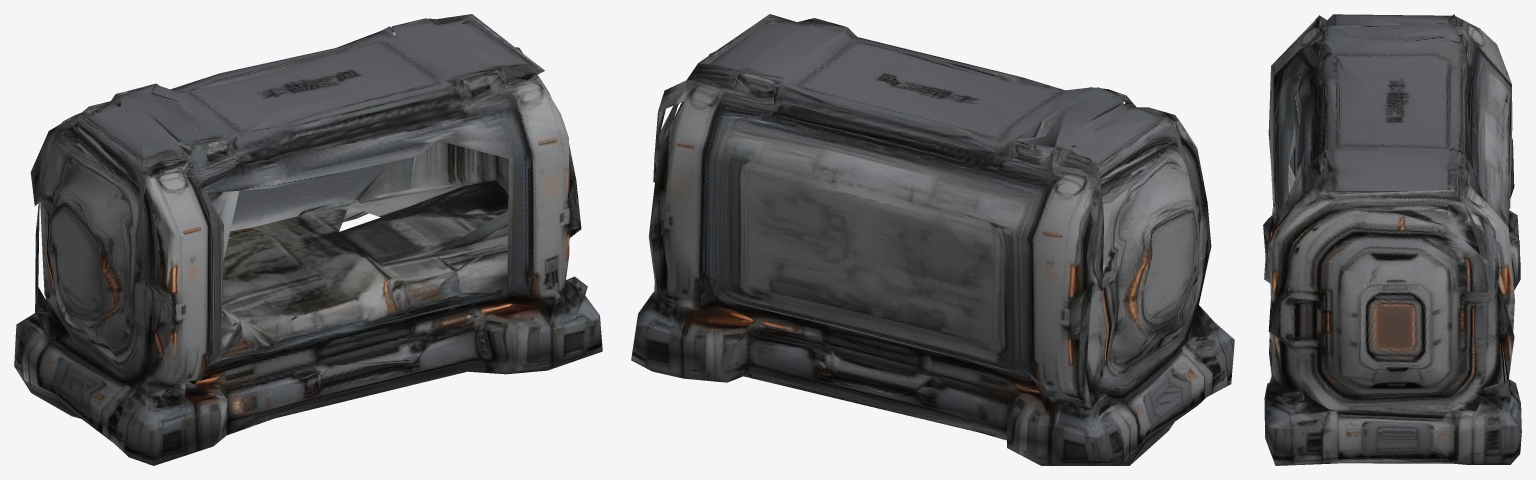
The model's file is midground_medical_pod.glb.
3 renders of one model, left to right at view 1: azimuth 30°, elevation 25°; view 2: azimuth 150°, elevation 25°; view 3: azimuth 270°, elevation 25°, orthographic. The views are drawn at different scales.
Visible parts, largest first — view 1: tripo_node_09200291-f98e-4306-bd4f-bbeb4ef1ba00; view 2: tripo_node_09200291-f98e-4306-bd4f-bbeb4ef1ba00; view 3: tripo_node_09200291-f98e-4306-bd4f-bbeb4ef1ba00.
Boxes of the visible parts, x1,y1,x2,y2 form: tripo_node_09200291-f98e-4306-bd4f-bbeb4ef1ba00: (14, 14, 602, 465); tripo_node_09200291-f98e-4306-bd4f-bbeb4ef1ba00: (631, 14, 1234, 465); tripo_node_09200291-f98e-4306-bd4f-bbeb4ef1ba00: (1263, 14, 1521, 465).
Size of the model in its own units: 1 by 0.58 by 0.5038.
1 material, 1 textured.
